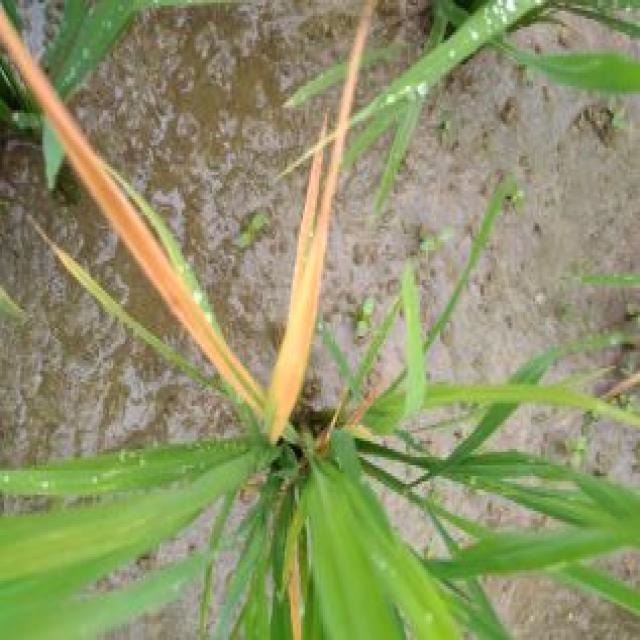Tungro: (3, 6, 250, 424), (262, 0, 374, 427), (279, 521, 312, 640)
